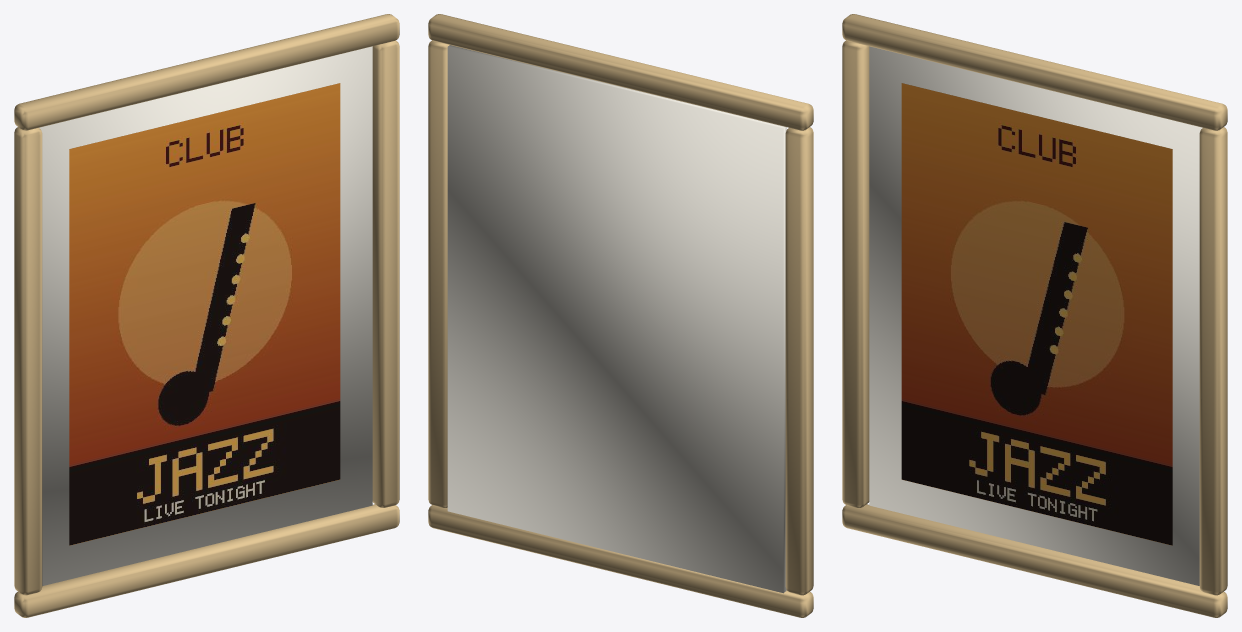
Rendered from poster_jazz.glb.
3 views of the same model, side by side, from view 1: azimuth 30°, elevation 25°; view 2: azimuth 150°, elevation 25°; view 3: azimuth 330°, elevation 25° (orthographic).
Visible parts, largest first — view 1: Print, Gilt frame, Backing; view 2: Backing, Gilt frame; view 3: Print, Gilt frame, Backing.
Part boxes in pixels (bbox=[...]): Print: bbox=[69, 83, 340, 545]; Gilt frame: bbox=[14, 14, 399, 617]; Backing: bbox=[39, 46, 372, 585]; Backing: bbox=[447, 45, 786, 593]; Gilt frame: bbox=[428, 14, 813, 617]; Print: bbox=[901, 83, 1172, 545]; Gilt frame: bbox=[842, 14, 1227, 617]; Backing: bbox=[869, 46, 1202, 585].
Bounding box in the file's own units: 0.7 × 0.9 × 0.035.
3 materials, 1 textured.
